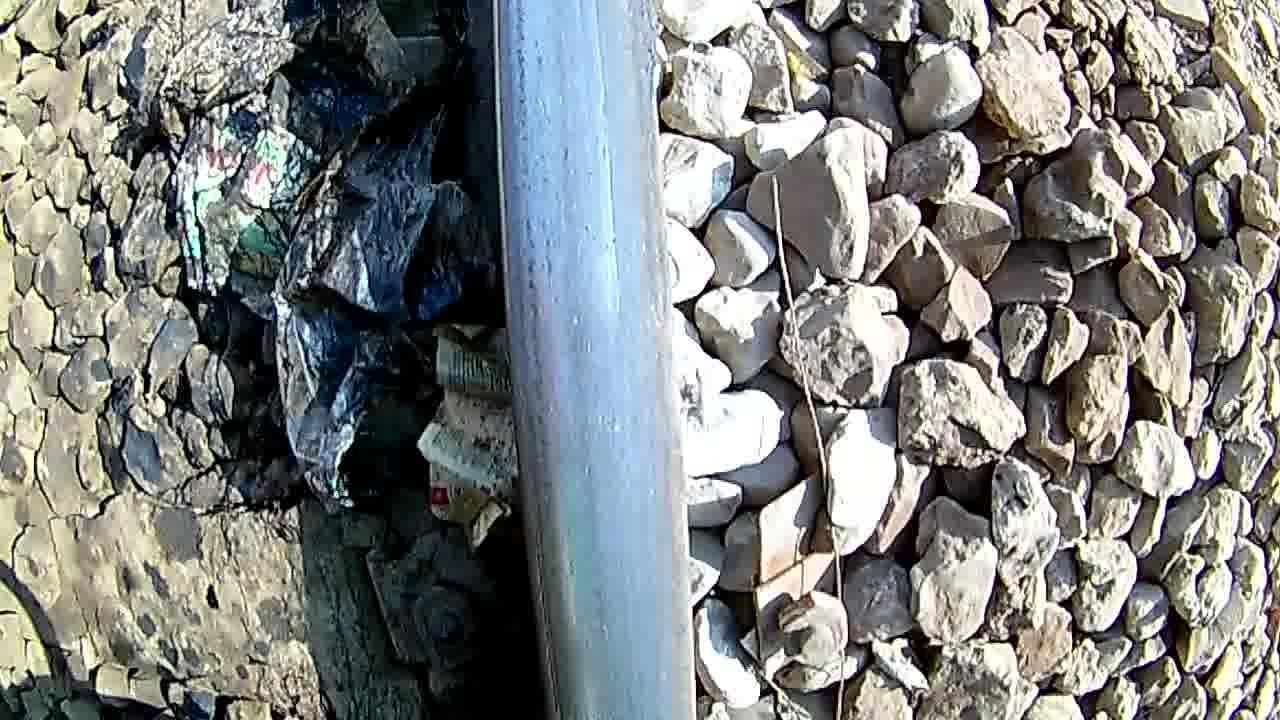crack: (484, 0, 703, 720)
